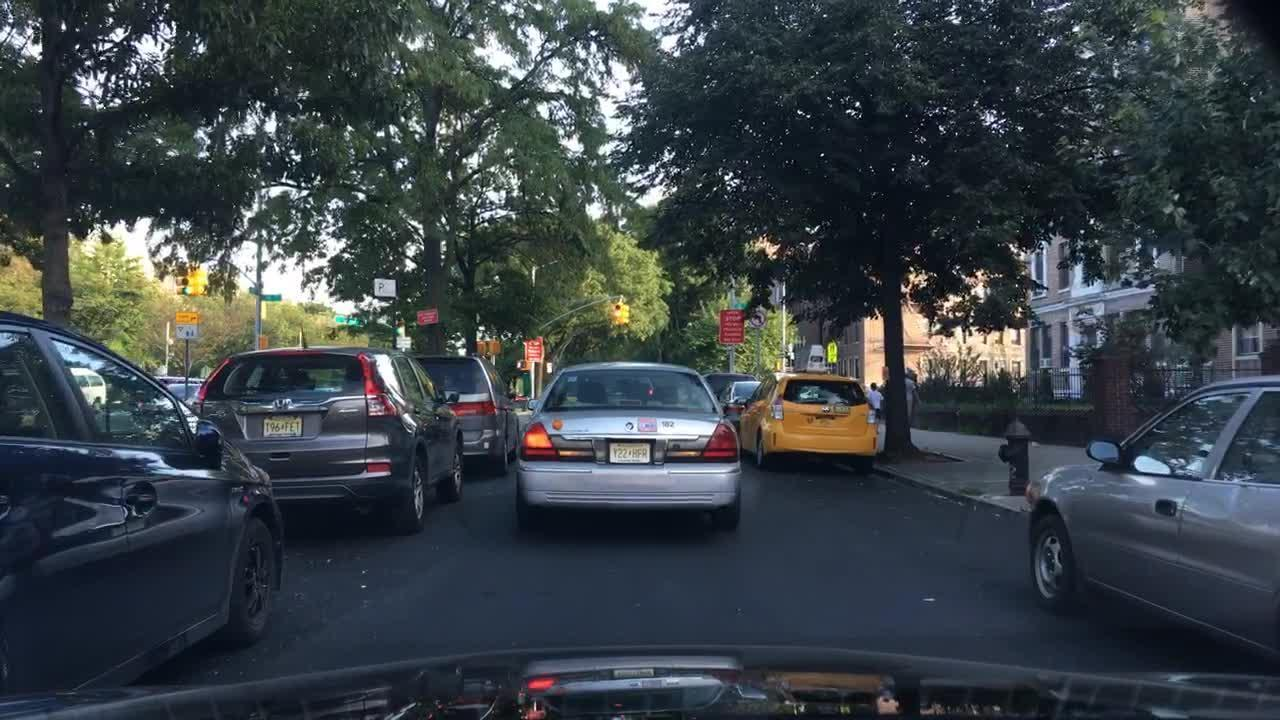Honda: (258, 392, 301, 418)
